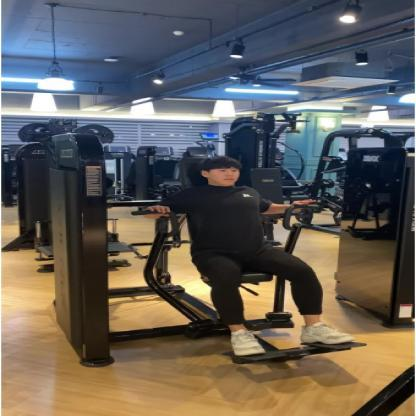Chest Press machine: (34, 100, 398, 377)
